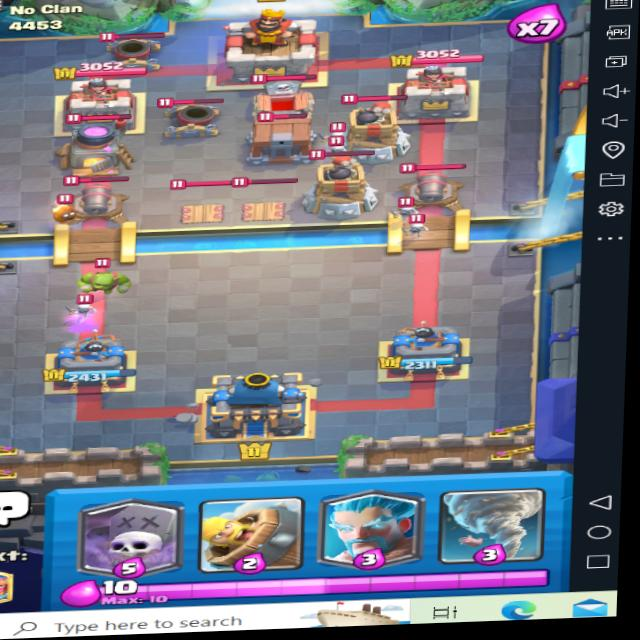bomb-tower: (304, 142, 390, 219), (326, 88, 414, 163)
brawler: (77, 257, 133, 300)
cannon: (395, 156, 471, 213), (66, 172, 133, 222)
fire-spirit: (52, 199, 86, 223)
furnace: (59, 110, 143, 177)
goblin-cage: (246, 104, 324, 160)
mortar: (99, 19, 173, 71), (155, 96, 224, 131)
skeleton: (70, 289, 103, 315), (324, 140, 361, 159), (387, 196, 415, 219), (402, 213, 425, 234)
tesla-closed: (227, 173, 300, 224), (168, 174, 236, 225)
tombstone: (245, 68, 327, 117)
